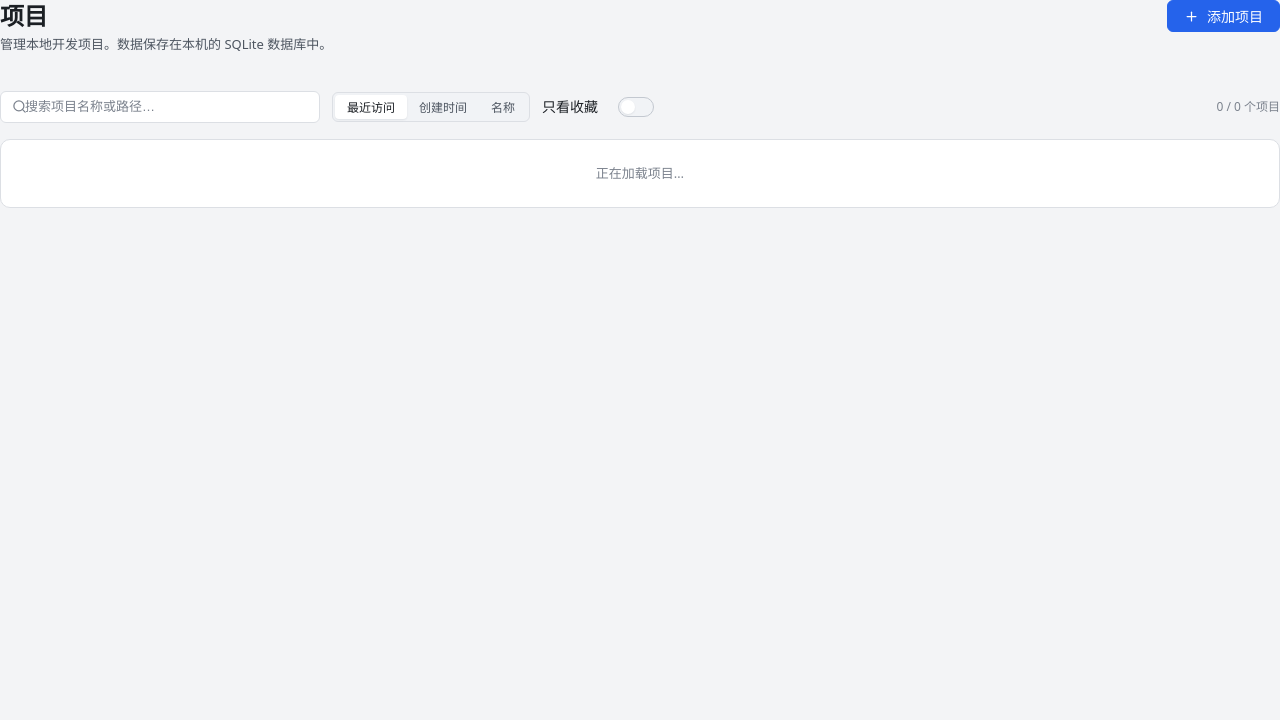
it: 项目详情：居中模态弹窗 › 关闭弹窗后回到原列表状态（保留搜索条件）
Step 1. Type "项目" into the search field with placeholder "搜索项目名称或路径…" → (160, 107), box [0, 91, 320, 123]
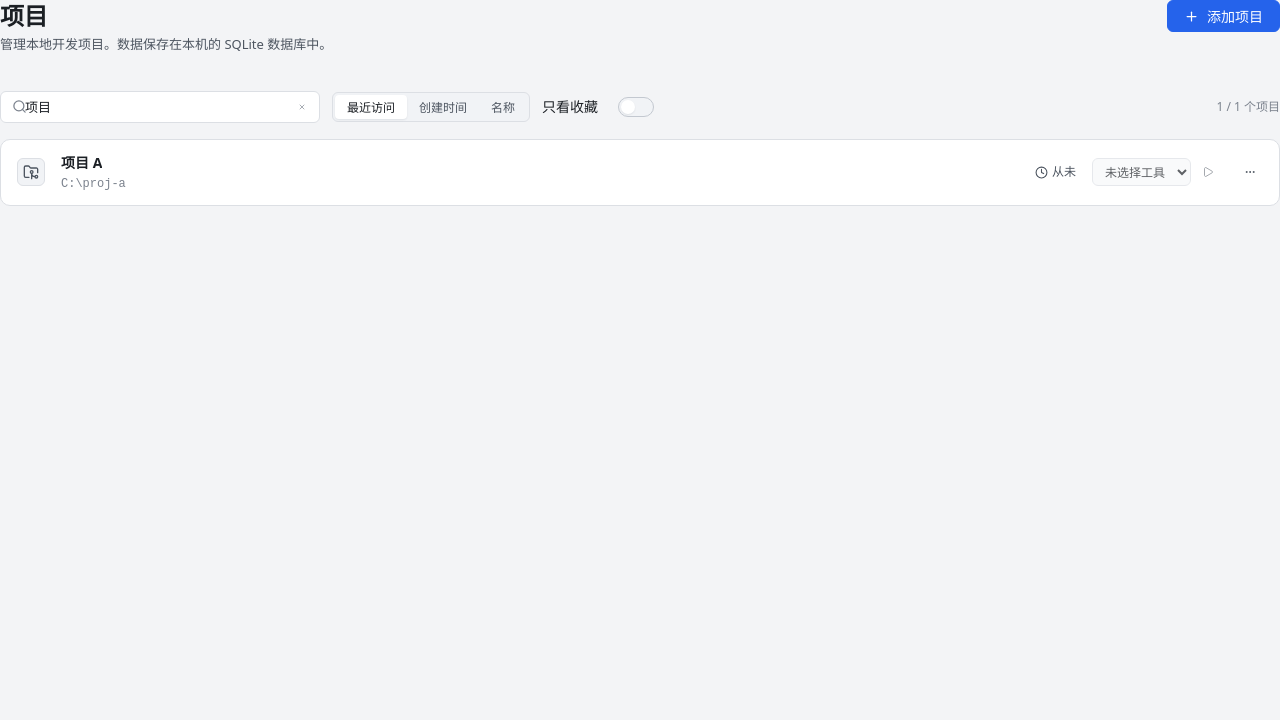
Step 2. Click the button with aria-label "查看项目详情：项目 A" → (82, 162), box [61, 152, 1019, 193]
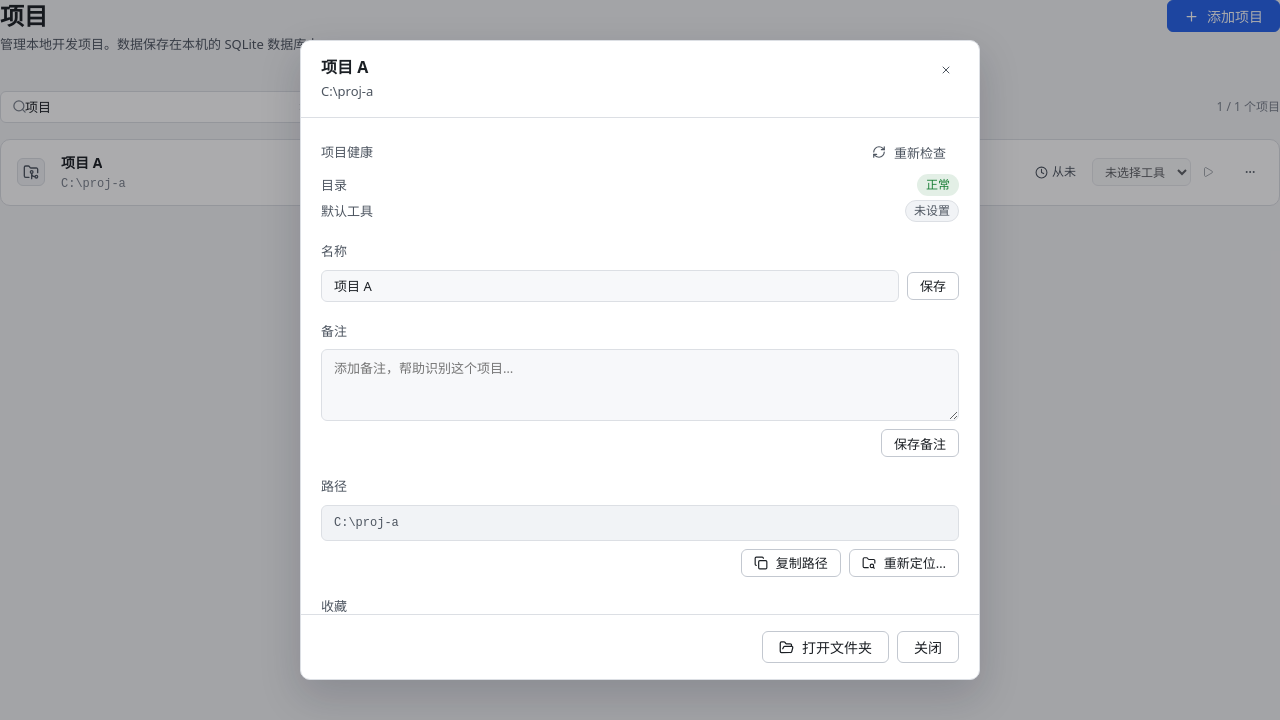
Step 3. Click the button named "关闭" → (946, 70), box [933, 57, 959, 83]
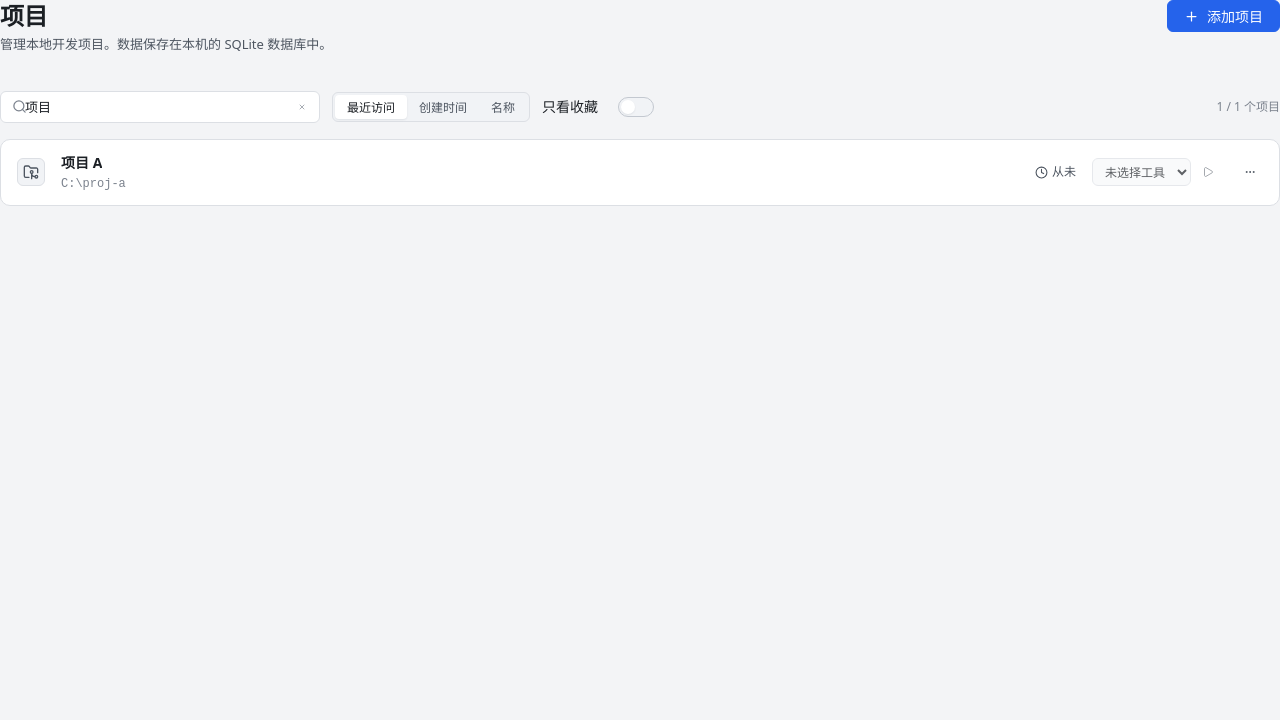
Now the button with aria-label "查看项目详情：项目 A" is shown, box [61, 152, 1019, 193]
Now the dialog is gone
